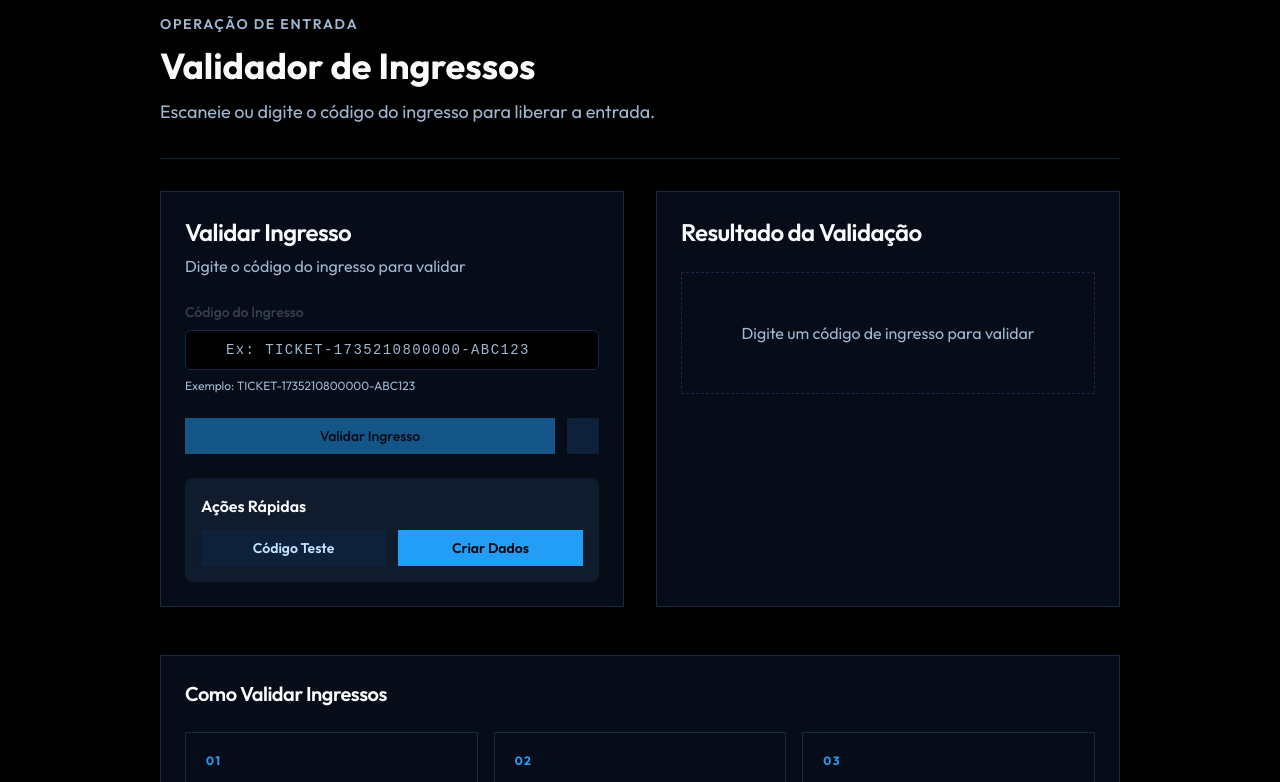
ValidatorPage › exibe histórico recente após validação bem-sucedida
This screenshot has width=1280, height=782.
Type "TICKET-MARIA" into the field with placeholder "Ex: TICKET-1735210800000-ABC123" at (392, 350), box top-left (185, 330), bottom-right (599, 370)
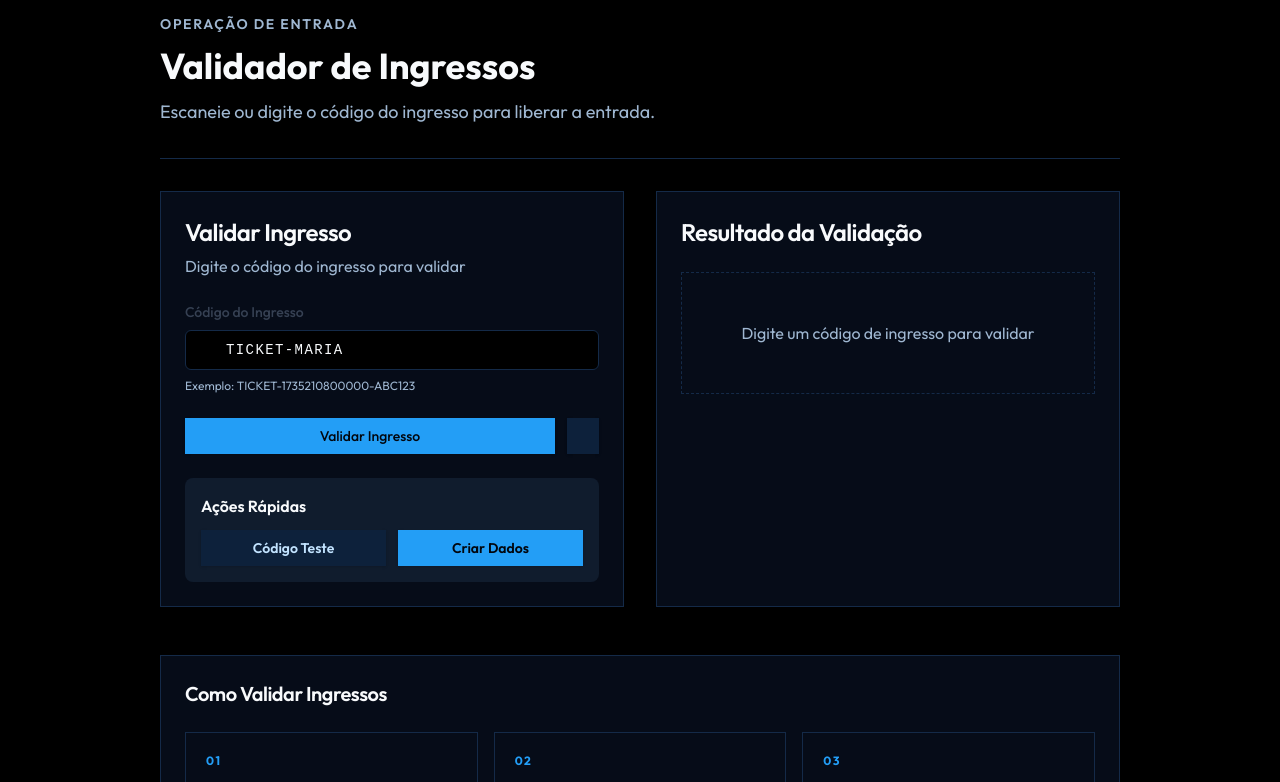
Click the button "Validar Ingresso" at (370, 436), box top-left (185, 418), bottom-right (555, 454)
(page scrolled)
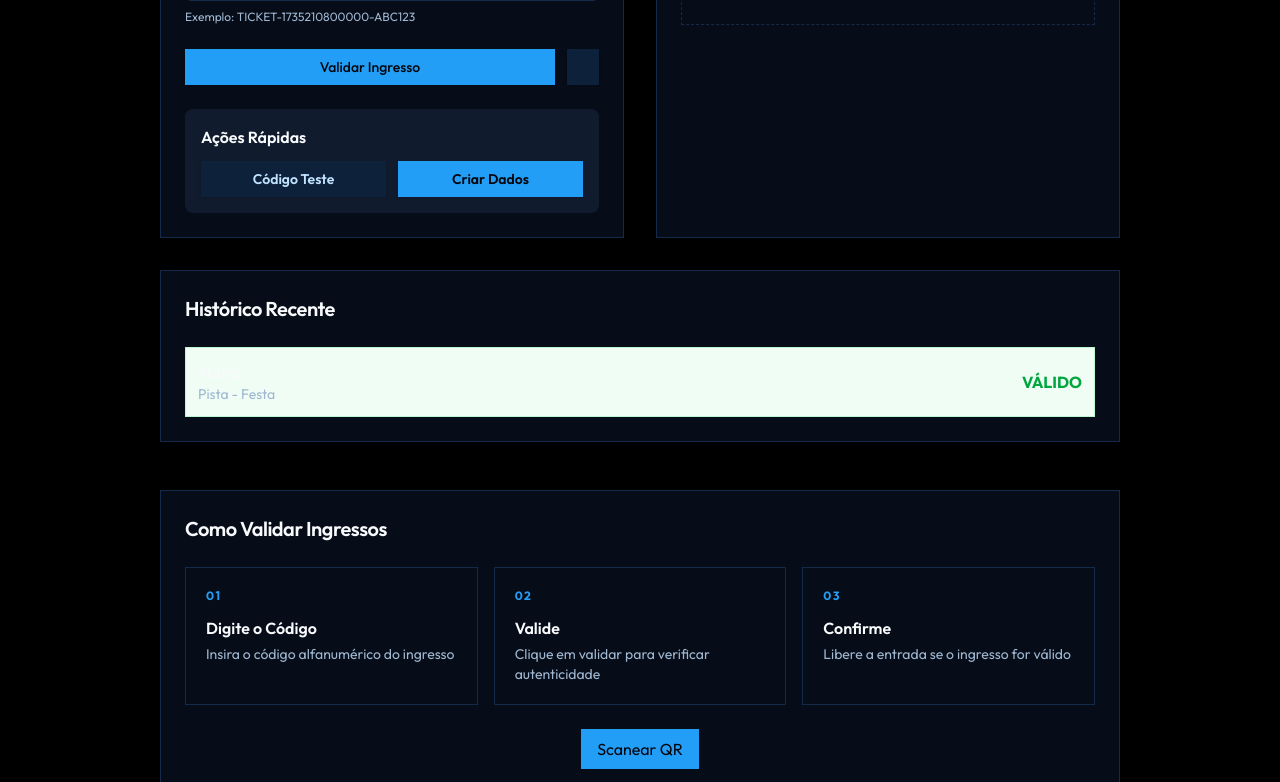
Check: the heading "Histórico Recente" is shown, box top-left (185, 296), bottom-right (335, 321)
Check: the text "VÁLIDO" is shown, box top-left (1022, 370), bottom-right (1082, 394)
